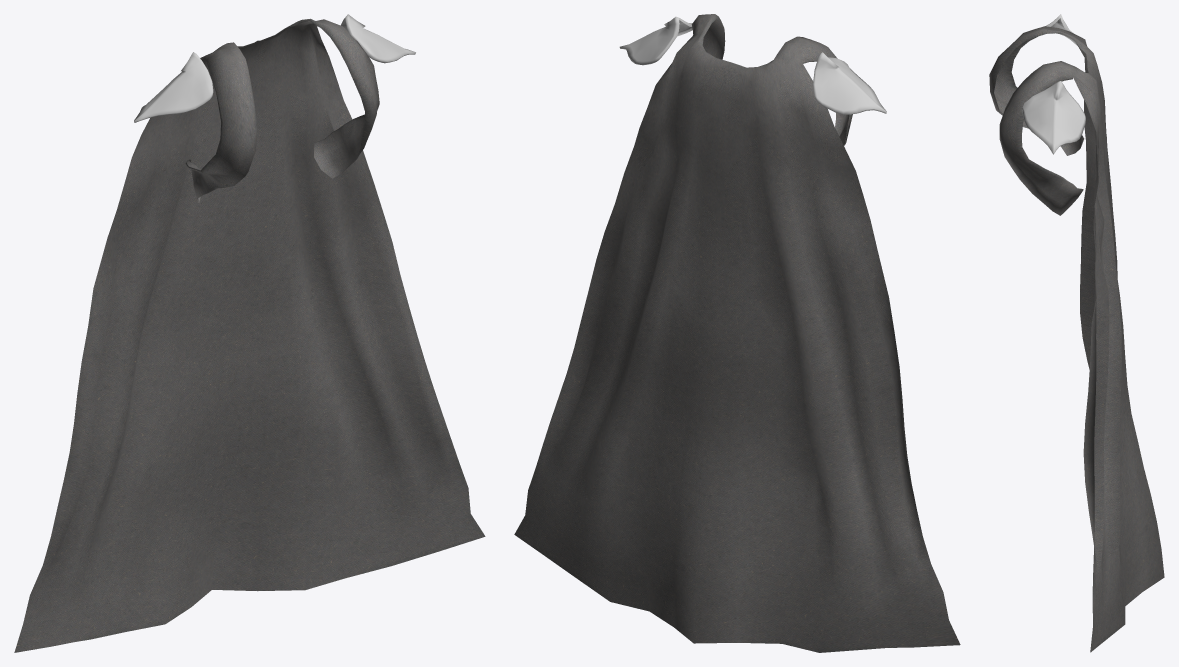
The model's file is rivendell_pauldron_leather_cape.fbx.
The picture shows the model from 3 angles, left to right: view 1: azimuth 30°, elevation 25°; view 2: azimuth 150°, elevation 25°; view 3: azimuth 270°, elevation 25°; orthographic projection. The views are drawn at different scales.
Parts seen in each view (by area): view 1: rivendell_pauldron_leather_cape.0, rivendell_pauldron_leather_cape.1; view 2: rivendell_pauldron_leather_cape.0, rivendell_pauldron_leather_cape.1; view 3: rivendell_pauldron_leather_cape.0, rivendell_pauldron_leather_cape.1.
Boxes of the visible parts, x1,y1,x2,y2 form: rivendell_pauldron_leather_cape.0: (14, 18, 485, 652); rivendell_pauldron_leather_cape.1: (134, 14, 415, 122); rivendell_pauldron_leather_cape.0: (514, 14, 960, 652); rivendell_pauldron_leather_cape.1: (619, 16, 886, 114); rivendell_pauldron_leather_cape.0: (989, 26, 1164, 652); rivendell_pauldron_leather_cape.1: (1022, 14, 1085, 154).
Size of the model in its own units: 1.22 by 0.4447 by 1.5.
